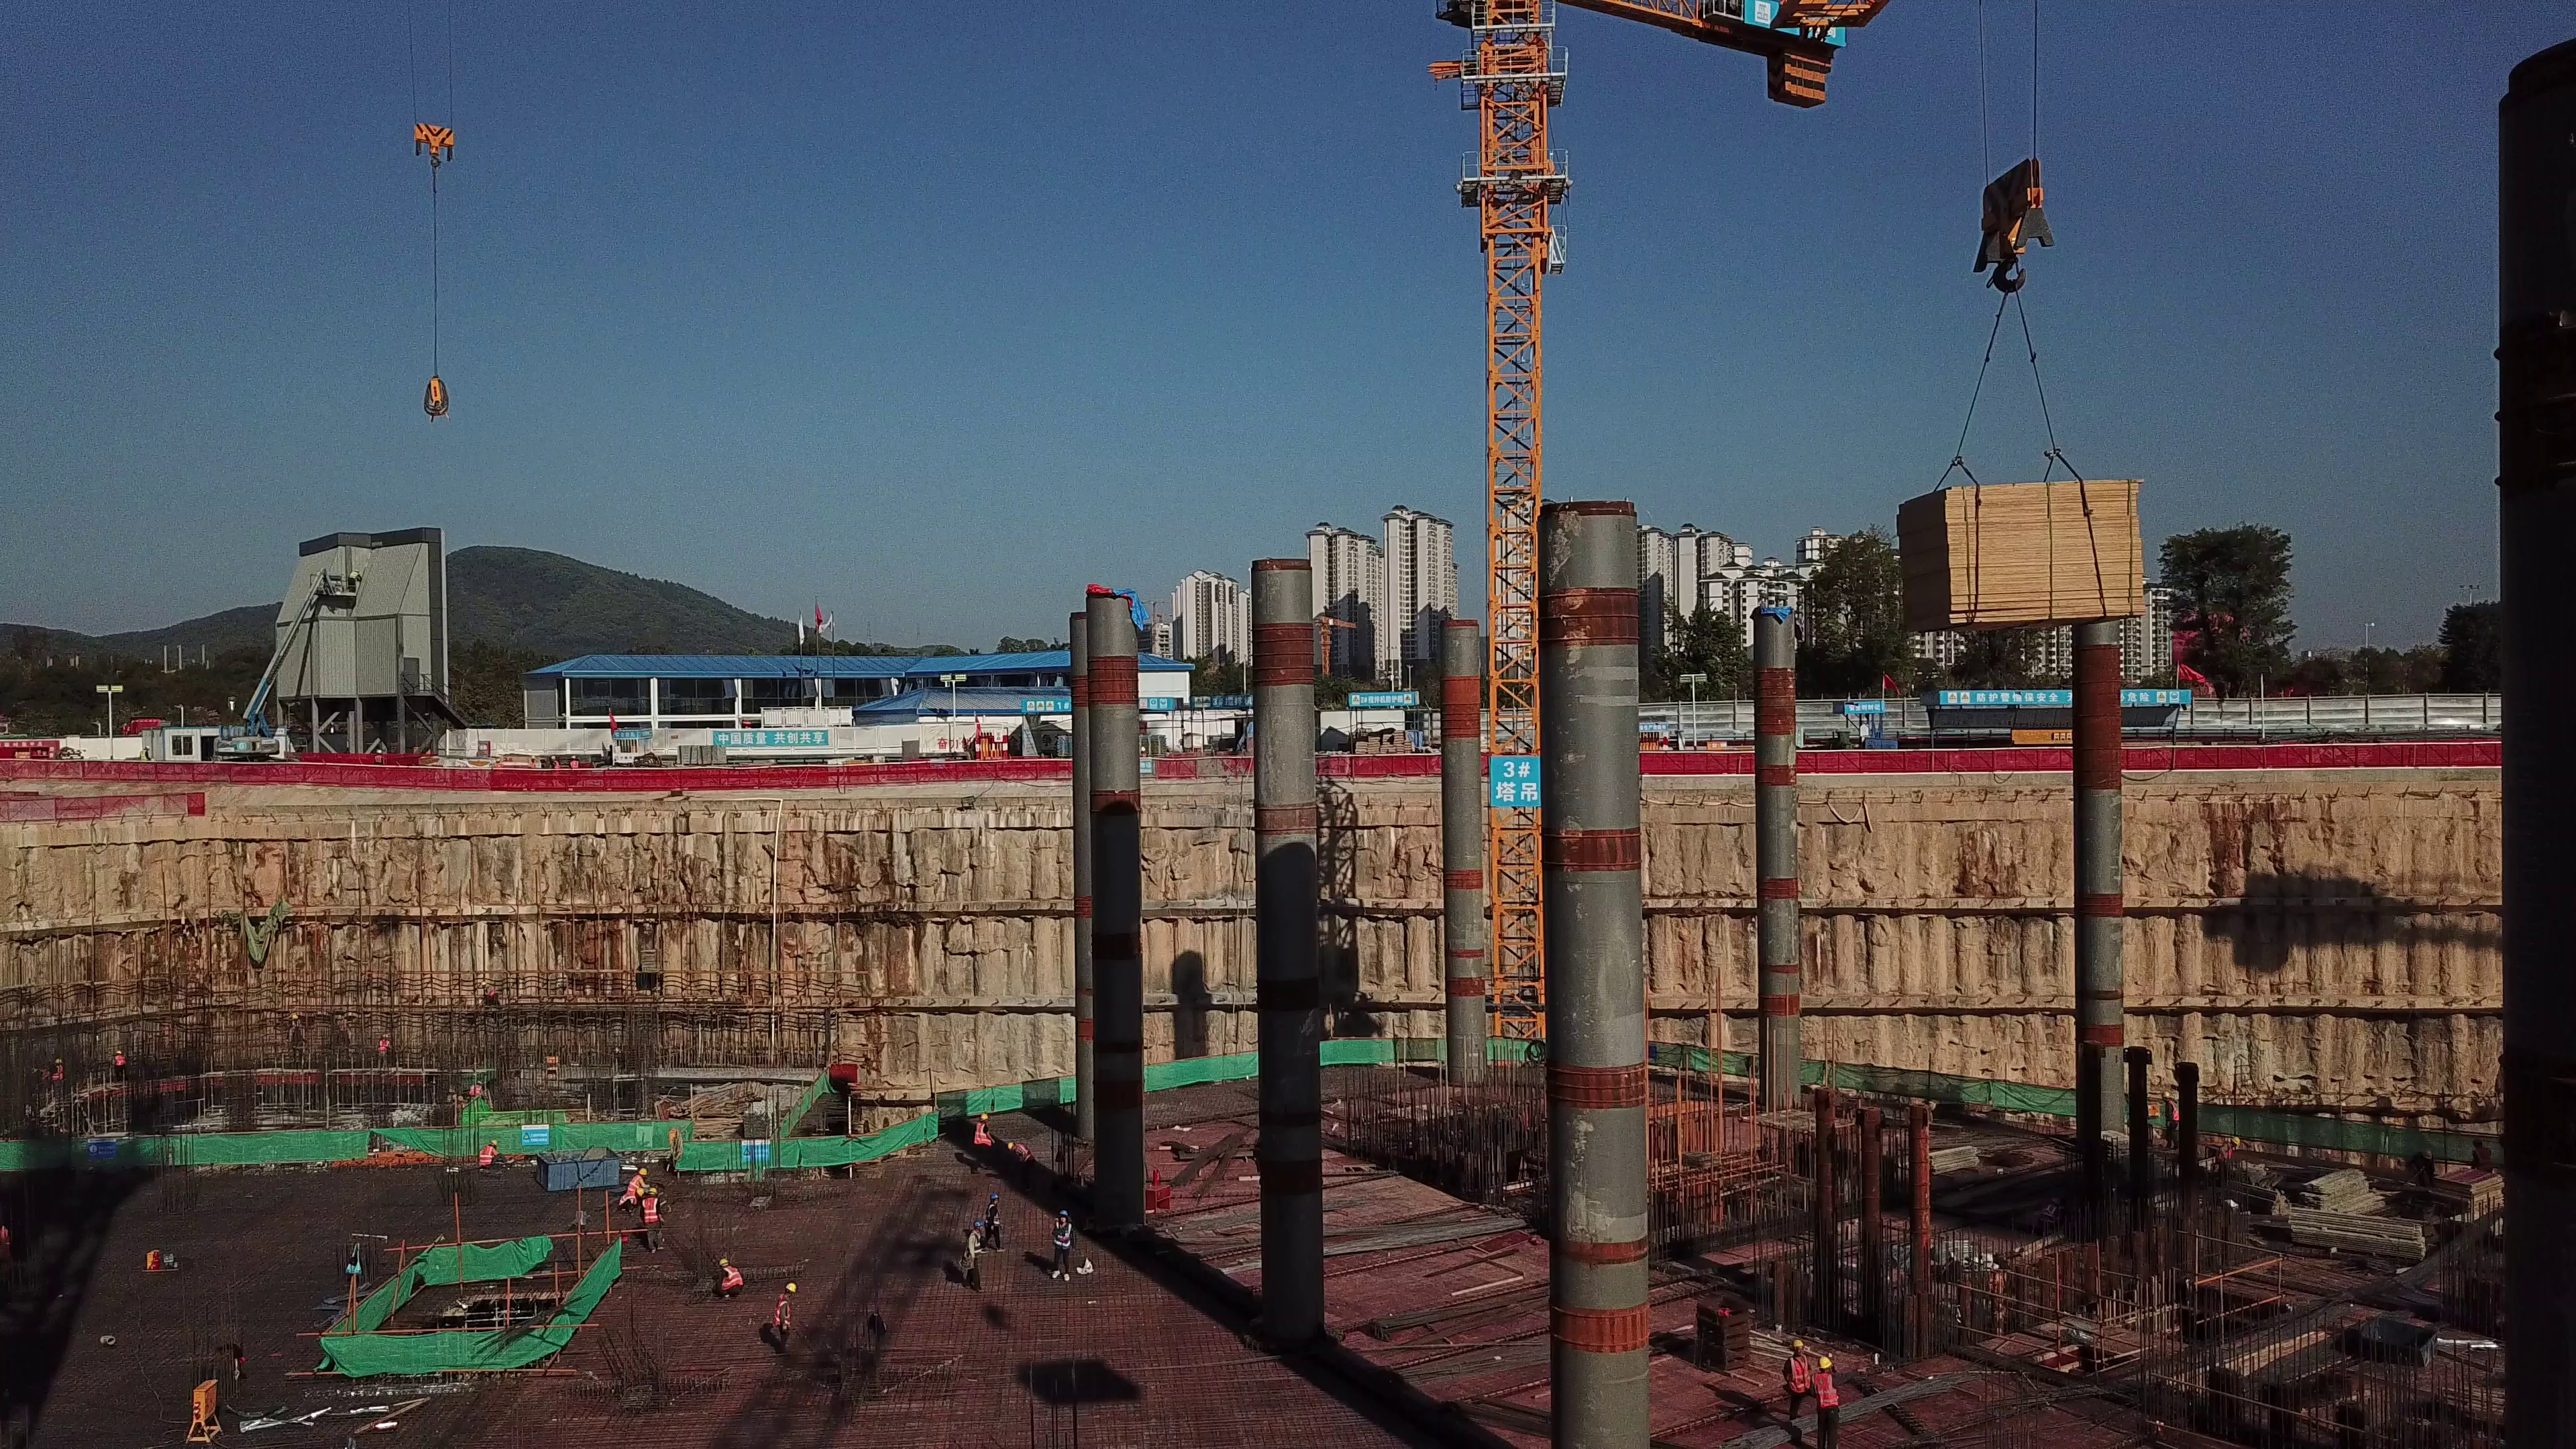helmet: (786, 1281, 803, 1297), (1817, 1356, 1832, 1373), (1789, 1335, 1805, 1346), (2230, 1137, 2243, 1148), (1006, 1139, 1016, 1151), (718, 1256, 732, 1265), (637, 1168, 647, 1177), (979, 1113, 989, 1122), (648, 1187, 659, 1195), (1057, 1210, 1069, 1217), (54, 1057, 62, 1065), (291, 1014, 303, 1021), (990, 1192, 1001, 1199), (971, 1220, 983, 1225), (490, 1140, 499, 1146), (637, 1187, 645, 1197), (2161, 1090, 2169, 1097), (115, 1049, 123, 1055), (376, 747, 384, 753), (495, 758, 502, 763), (551, 755, 558, 761), (570, 755, 576, 761), (144, 745, 150, 749), (480, 980, 487, 985), (530, 754, 536, 759)
person: (1810, 1353, 1845, 1446), (1782, 1337, 1813, 1422), (961, 1222, 987, 1293), (1051, 1208, 1075, 1282), (773, 1282, 798, 1354), (971, 1114, 995, 1179), (643, 1186, 664, 1254), (983, 1191, 1007, 1254), (1007, 1139, 1038, 1186), (716, 1257, 745, 1303), (2213, 1135, 2241, 1179), (2159, 1090, 2181, 1146), (475, 1137, 503, 1176), (2466, 1138, 2493, 1173), (288, 1013, 309, 1047), (618, 1189, 643, 1218), (625, 1166, 649, 1190), (377, 1034, 392, 1069), (52, 1058, 65, 1096), (30, 1065, 50, 1093), (111, 1049, 127, 1083), (480, 981, 499, 1008), (468, 1079, 485, 1099), (138, 745, 155, 762), (371, 748, 387, 765), (551, 755, 562, 769), (567, 755, 580, 768), (493, 757, 505, 770), (527, 756, 537, 769), (539, 755, 549, 769)
vest: (773, 1296, 798, 1334), (1815, 1371, 1840, 1407), (1786, 1354, 1811, 1391), (1053, 1220, 1071, 1249), (1014, 1140, 1036, 1164), (641, 1196, 660, 1223), (722, 1269, 743, 1291), (966, 1232, 983, 1260), (975, 1122, 991, 1146), (478, 1147, 493, 1169), (2166, 1100, 2182, 1122), (2217, 1143, 2233, 1163), (986, 1203, 1000, 1225), (620, 1191, 637, 1204), (629, 1175, 641, 1189), (54, 1066, 64, 1081), (115, 1054, 124, 1068), (138, 750, 149, 760), (484, 986, 496, 997), (471, 1085, 480, 1096), (553, 761, 561, 769), (529, 761, 537, 770), (494, 763, 504, 768), (570, 761, 578, 767)
